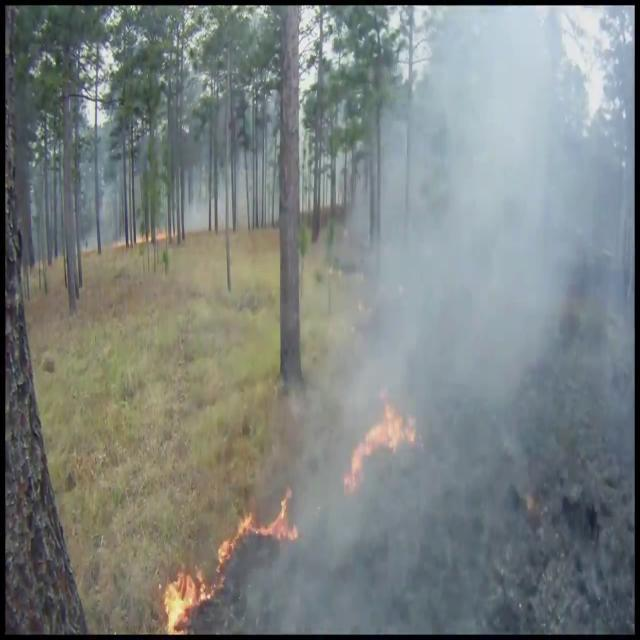Fire: (350, 396, 416, 480), (158, 558, 215, 633), (239, 486, 299, 550)
Smoke: (281, 8, 634, 630)
